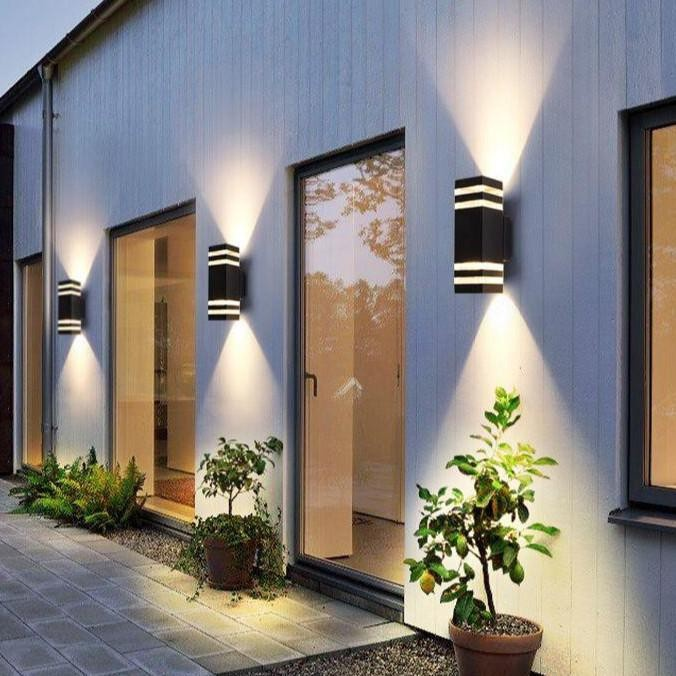lampu: (400, 21, 571, 398), (169, 140, 299, 437), (24, 201, 125, 434)
